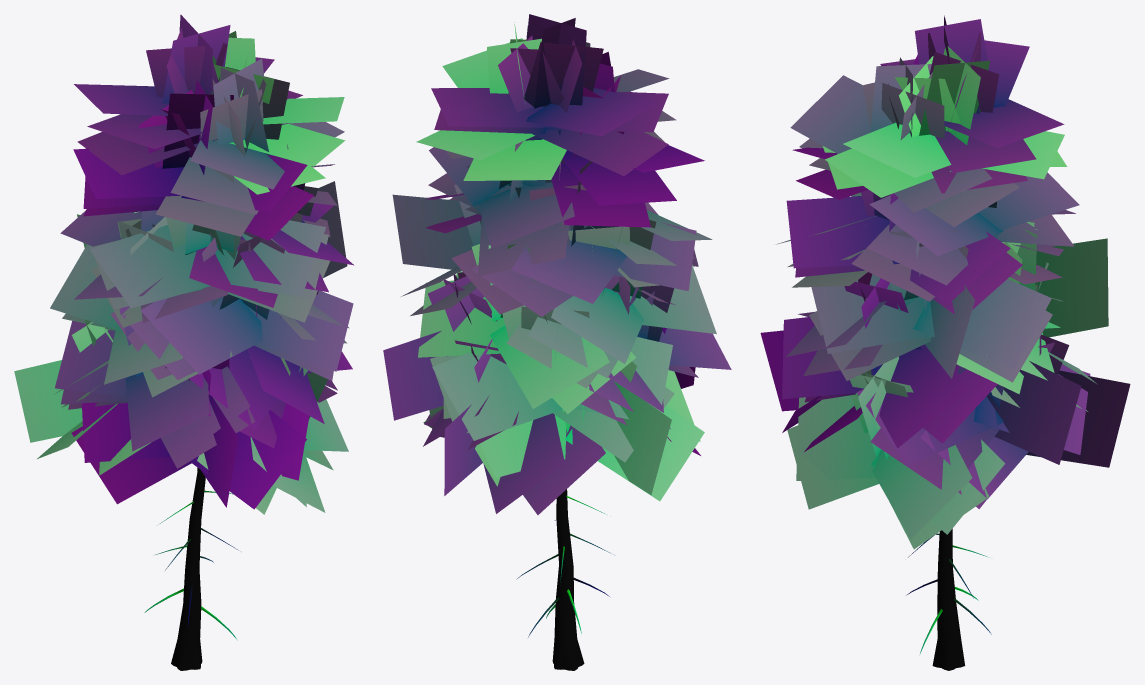
File: Tree_2_5.fbx
3 renders of one model, left to right at view 1: azimuth 30°, elevation 25°; view 2: azimuth 150°, elevation 25°; view 3: azimuth 270°, elevation 25°, orthographic.
Parts seen in each view (by area): view 1: _5; view 2: _5; view 3: _5.
Part boxes in pixels (x1,y1,x2,y2): _5: (14,14,353,670); _5: (383,14,731,670); _5: (760,15,1130,670).
Bounding box in the file's own units: 885 × 1797 × 929.
